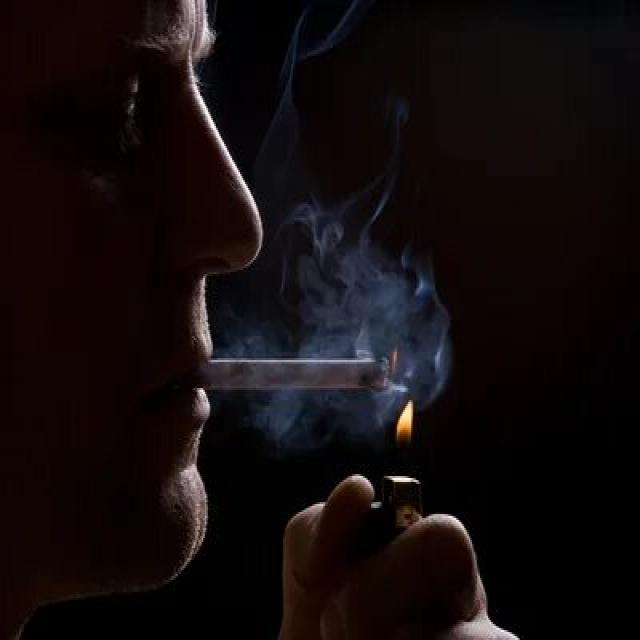cigarette: (204, 350, 410, 394)
